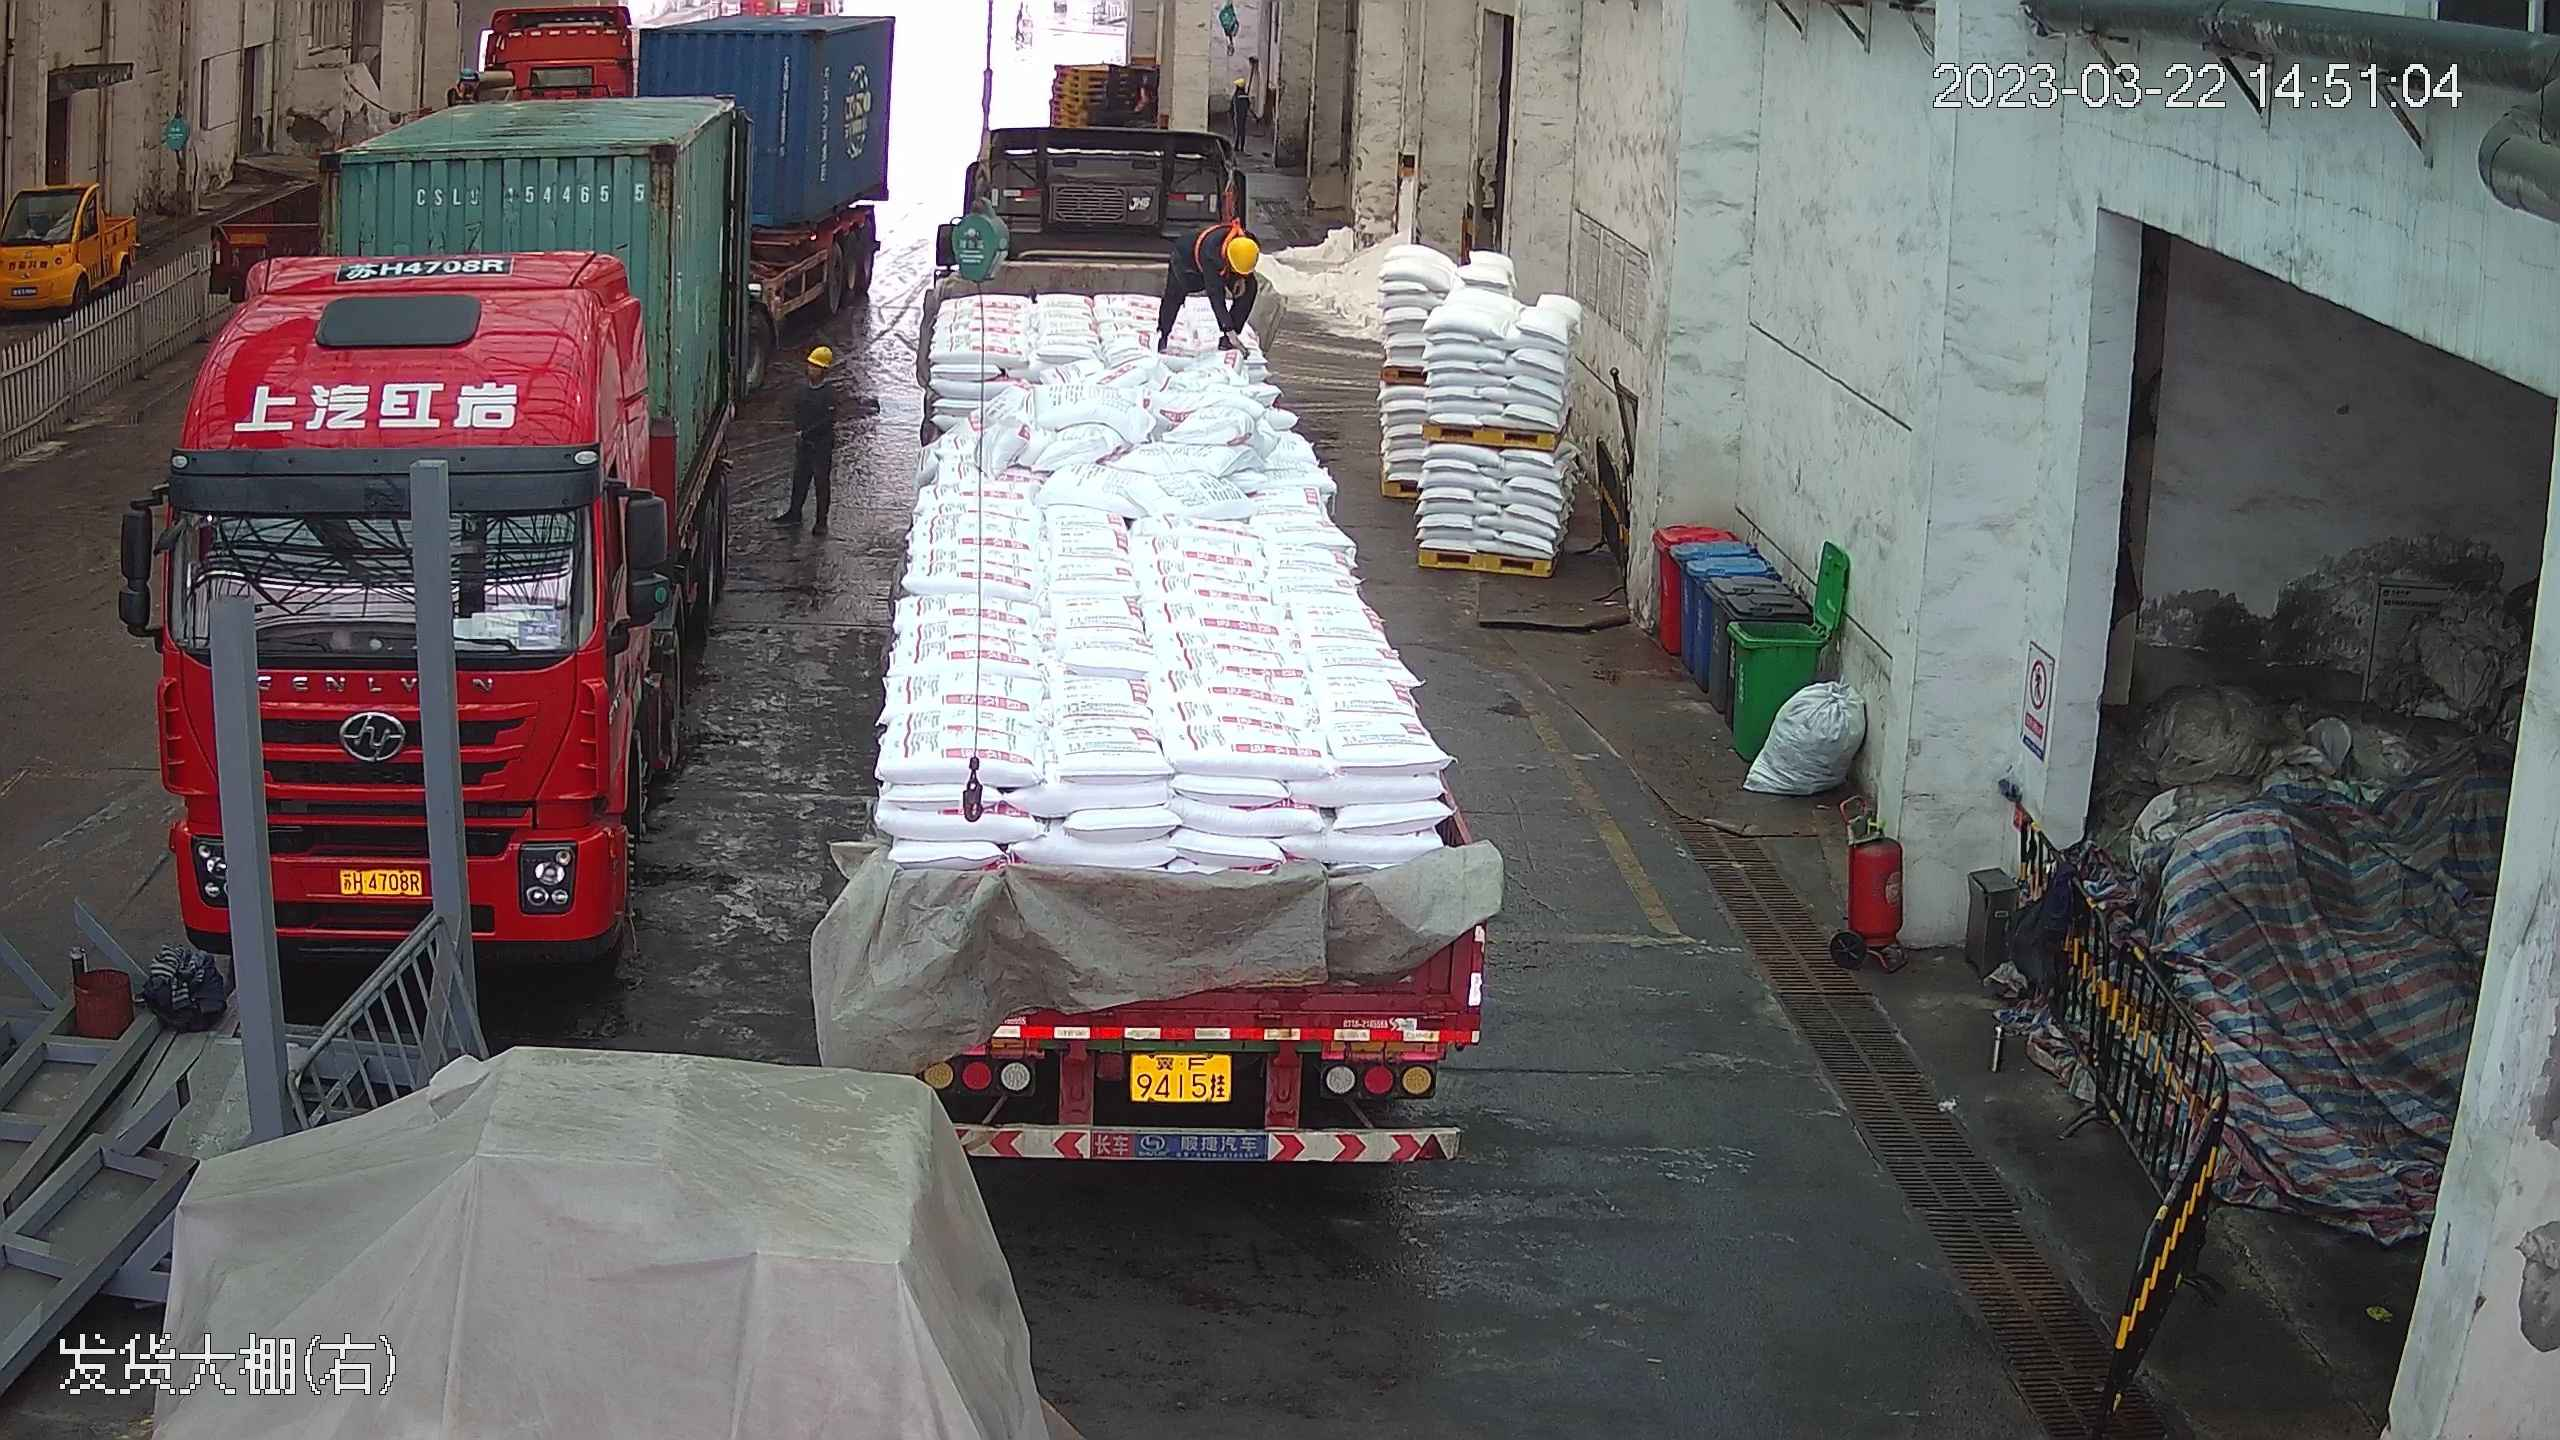belt: (1188, 205, 1244, 260)
head: (1184, 223, 1265, 286), (790, 345, 842, 412)
helmet: (1220, 227, 1262, 272), (805, 345, 835, 368)
people: (1147, 217, 1269, 363), (771, 345, 841, 545)
truck: (846, 37, 1513, 1188), (120, 10, 852, 961)
